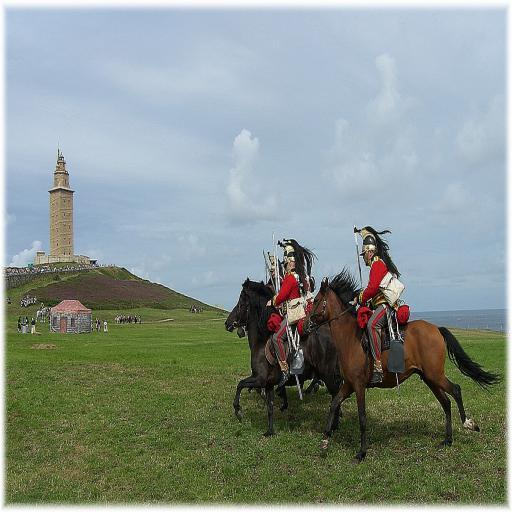Horse: (302, 261, 504, 466), (222, 275, 344, 437)
